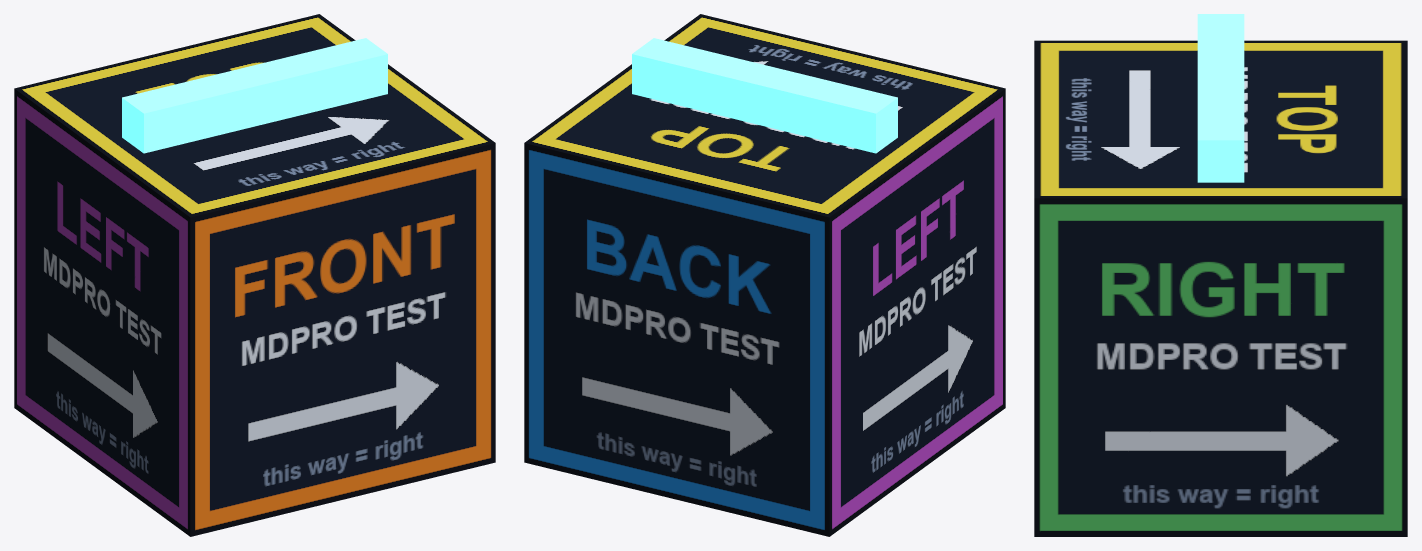
Rendered from MDPRO_test_crate.glb.
3 views of the same model, side by side, from view 1: azimuth 30°, elevation 25°; view 2: azimuth 150°, elevation 25°; view 3: azimuth 270°, elevation 25° (orthographic). The views are drawn at different scales.
Parts seen in each view (by area): view 1: MDPRO_test_crate; view 2: MDPRO_test_crate; view 3: MDPRO_test_crate.
Part boxes in pixels (x1,y1,x2,y2): MDPRO_test_crate: (14, 14, 495, 536); MDPRO_test_crate: (524, 14, 1005, 536); MDPRO_test_crate: (1034, 14, 1407, 536).
Bounding box in the file's own units: 4 × 4.5 × 4.
2 materials, 1 textured.
